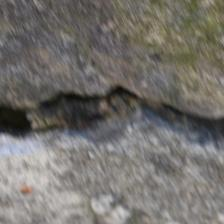Crack: (2, 42, 221, 104)
